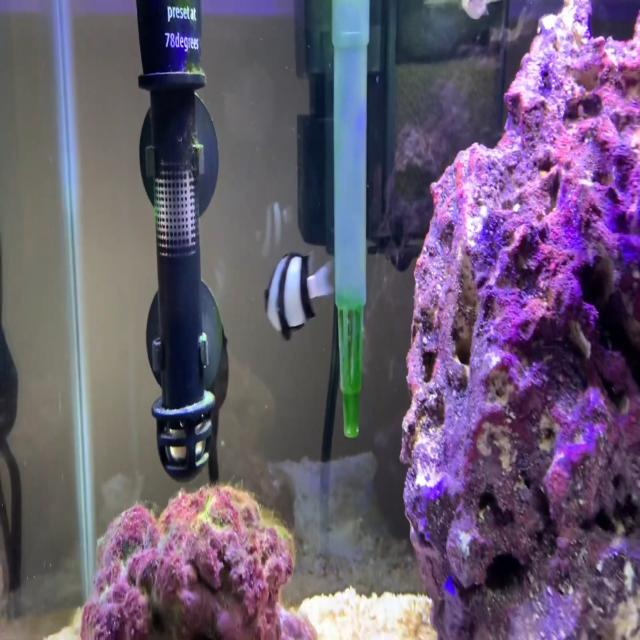ThreeStripedDamselfish: (264, 252, 334, 341)
